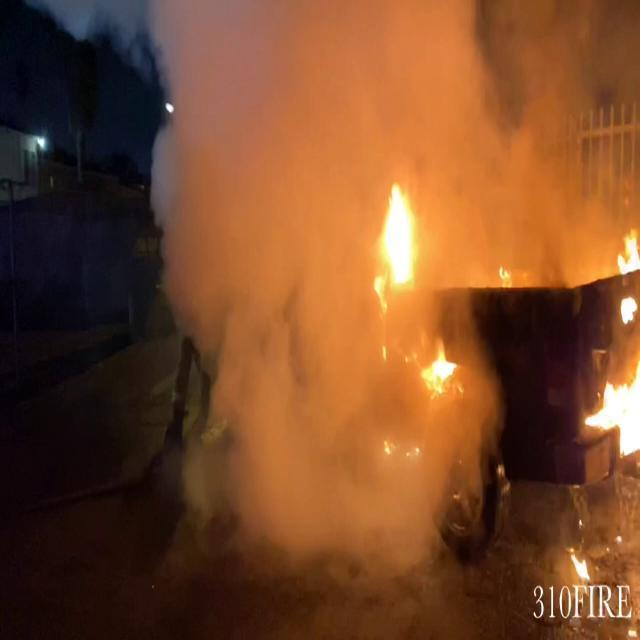Fire: (583, 227, 640, 461), (580, 292, 640, 462), (369, 178, 423, 294), (418, 342, 464, 402)
Smoke: (127, 1, 485, 558)
